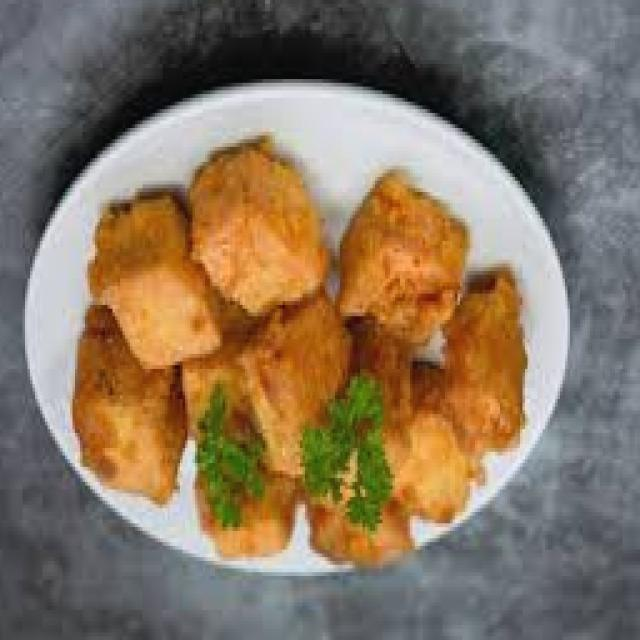tahu: (79, 178, 530, 580), (239, 303, 359, 492), (71, 323, 183, 517), (339, 200, 456, 358), (196, 180, 328, 318), (440, 295, 535, 452), (375, 396, 485, 526)
